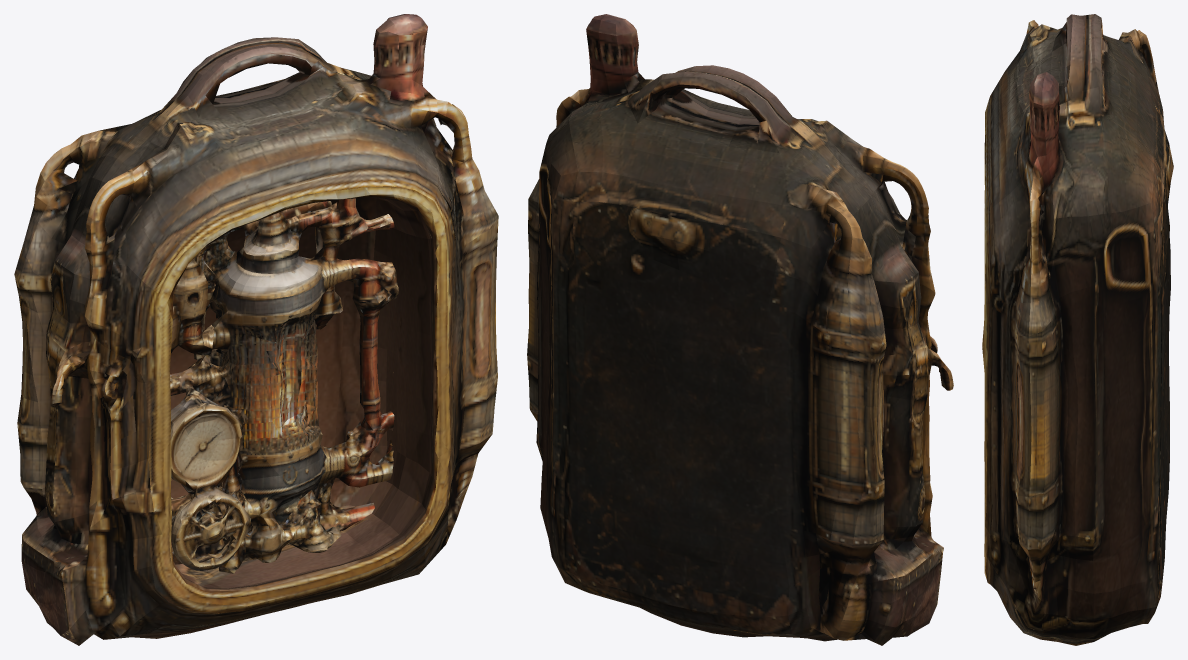
The model's file is SteamBag_Low.fbx.
3 views of the same model, side by side, from view 1: azimuth 30°, elevation 25°; view 2: azimuth 150°, elevation 25°; view 3: azimuth 270°, elevation 25° (orthographic). The views are drawn at different scales.
Visible parts, largest first — view 1: SteamBag_Low.001; view 2: SteamBag_Low.001; view 3: SteamBag_Low.001.
Boxes of the visible parts, box(x1,y1,x2,y2) form: SteamBag_Low.001: box(14, 14, 498, 645); SteamBag_Low.001: box(527, 14, 953, 645); SteamBag_Low.001: box(982, 14, 1173, 645).
Bounding box in the file's own units: 0.7966 × 0.9907 × 0.3.
